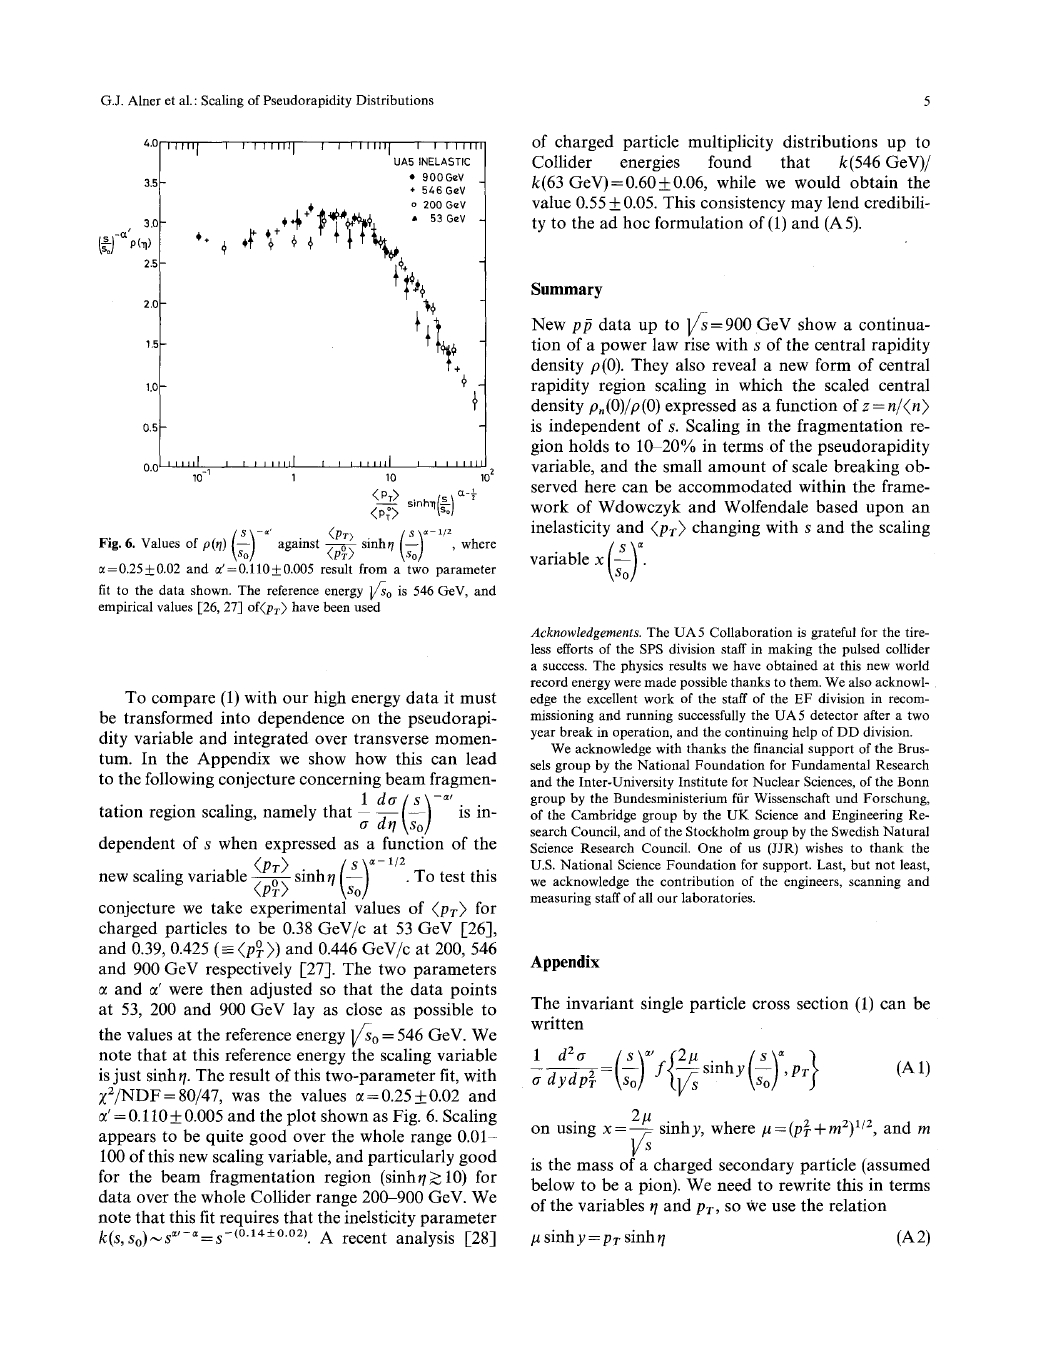figure: (99, 138, 493, 482)
formula: (522, 1044, 929, 1098), (530, 1228, 929, 1247), (530, 540, 645, 583), (370, 487, 476, 522)
